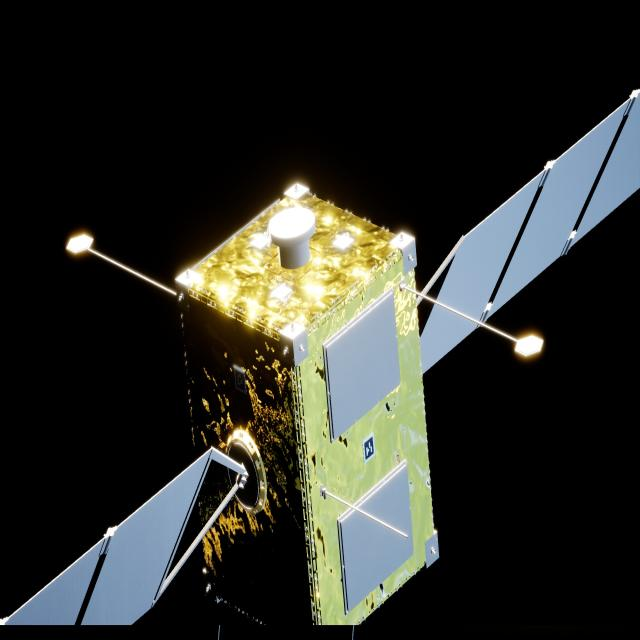satellite: (0, 87, 640, 633)
